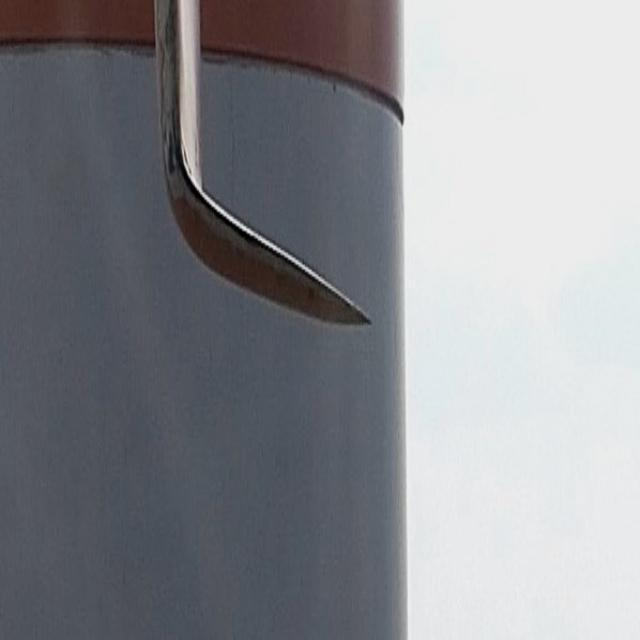EROSION: (144, 55, 336, 292)
